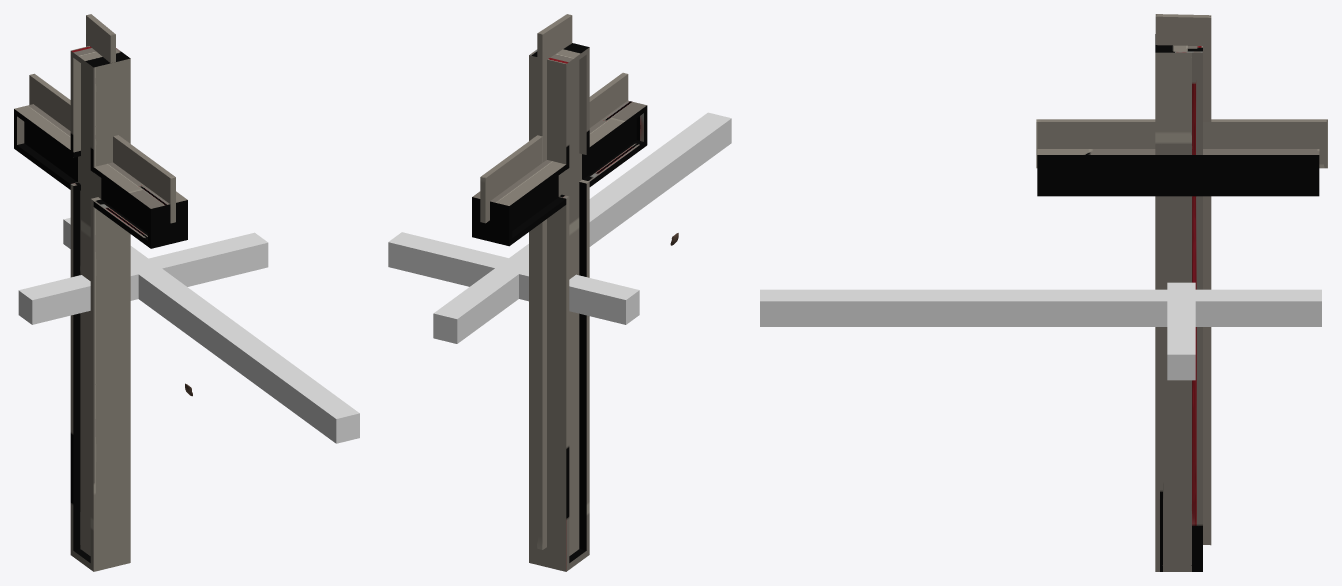
The model's file is newcrpss2.fbx.
3 views of the same model, side by side, from view 1: azimuth 30°, elevation 25°; view 2: azimuth 150°, elevation 25°; view 3: azimuth 270°, elevation 25° (orthographic). The views are drawn at different scales.
Visible parts, largest first — view 1: Cross.002, Cube.086.002, LId; view 2: Cross.002, Cube.086.002, LId; view 3: Cross.002, Cube.086.002, LId.
Boxes of the visible parts, left/top/right/bottom form: Cross.002: left=14, top=46, right=187, bottom=571; Cube.086.002: left=18, top=217, right=359, bottom=443; LId: left=29, top=14, right=175, bottom=223; Cross.002: left=472, top=43, right=647, bottom=571; Cube.086.002: left=388, top=112, right=731, bottom=343; LId: left=480, top=14, right=628, bottom=549; Cross.002: left=1037, top=34, right=1319, bottom=571; Cube.086.002: left=760, top=282, right=1321, bottom=380; LId: left=1036, top=14, right=1327, bottom=545.
Size of the model in its own units: 400 by 861 by 809.
